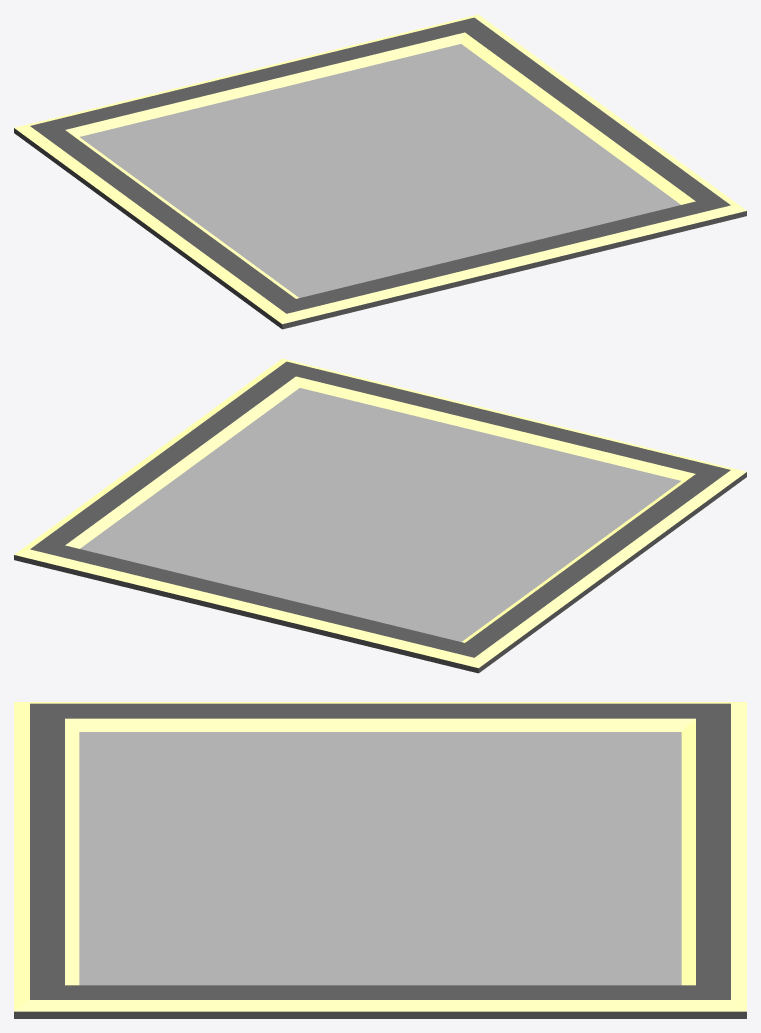
File: floorplainlight.fbx
The picture shows the model from 3 angles, top to bottom: view 1: azimuth 30°, elevation 25°; view 2: azimuth 150°, elevation 25°; view 3: azimuth 270°, elevation 25°; orthographic projection. The views are drawn at different scales.
Visible parts, largest first — view 1: Cube.001; view 2: Cube.001; view 3: Cube.001.
Part boxes in pixels (left/top/right/bottom): Cube.001: left=14, top=14, right=746, bottom=329; Cube.001: left=14, top=358, right=746, bottom=673; Cube.001: left=14, top=702, right=746, bottom=1018.
Bounding box in the file's own units: 2 × 0.0367 × 2.
